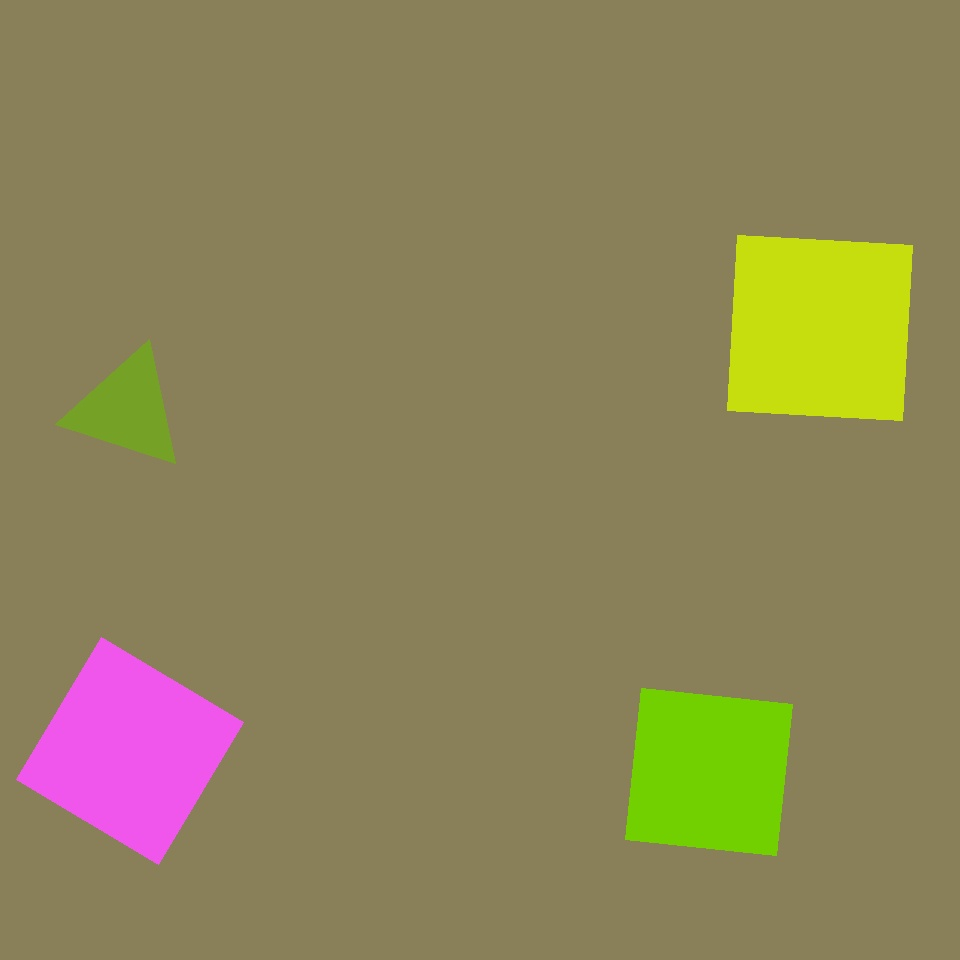circle: (355, 476, 624, 756), (67, 347, 187, 471)
square: (318, 108, 623, 414), (16, 638, 244, 865), (728, 236, 912, 420), (626, 689, 792, 856)
triangle: (370, 506, 625, 761), (126, 24, 327, 226)
